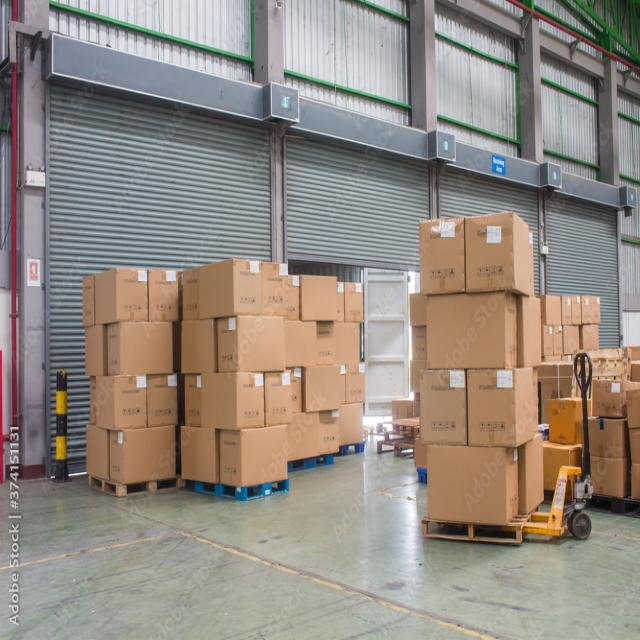pallet: (421, 214, 544, 546), (174, 257, 289, 514), (80, 253, 182, 508), (280, 265, 337, 477)
